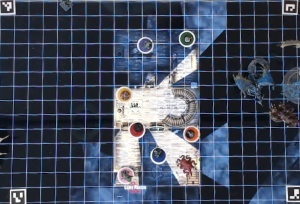blue: (147, 144, 167, 164)
green: (176, 28, 197, 46)
orange: (181, 125, 201, 143)
pink: (115, 166, 136, 186)
red: (129, 121, 146, 137)
violet: (134, 34, 155, 54)
yellow: (114, 83, 133, 101)
